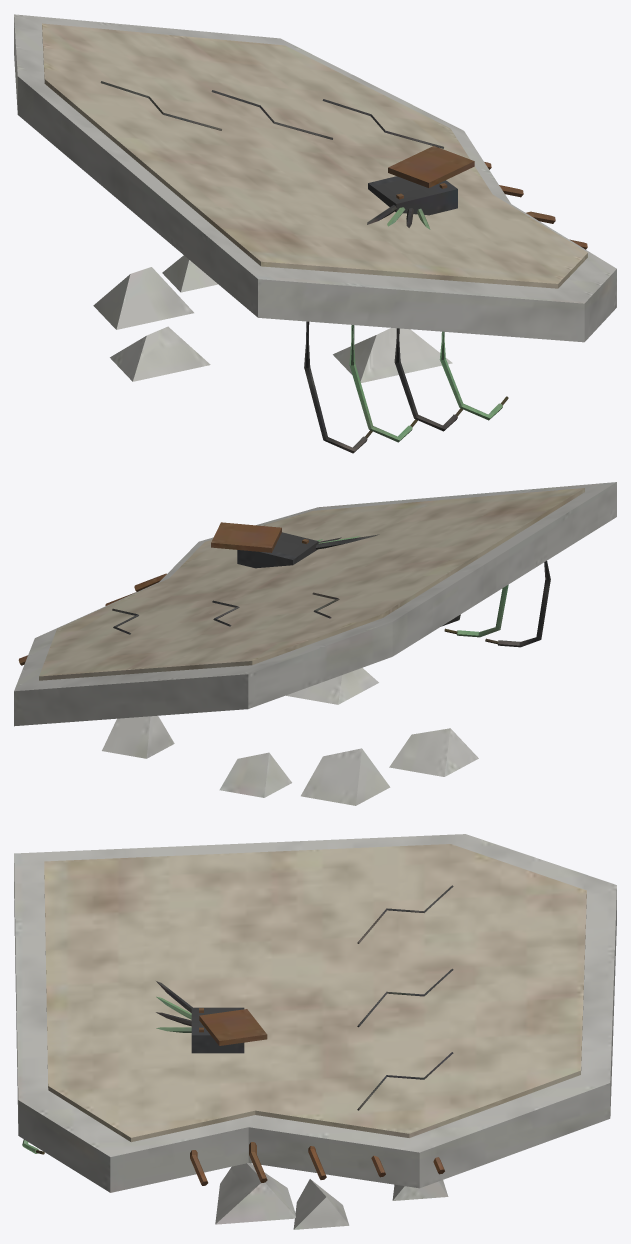
Rendered from BR18_collapsed_ceiling_piece_v2.glb.
The picture shows the model from 3 angles, top to bottom: view 1: azimuth 30°, elevation 25°; view 2: azimuth 150°, elevation 25°; view 3: azimuth 270°, elevation 25°; orthographic projection. The views are drawn at different scales.
Parts seen in each view (by area): view 1: Broken reinforced ceiling slab; view 2: Broken reinforced ceiling slab; view 3: Broken reinforced ceiling slab.
Part boxes in pixels (box(x1,y1,x2,y2)): Broken reinforced ceiling slab: box(14, 14, 616, 453); Broken reinforced ceiling slab: box(14, 482, 616, 805); Broken reinforced ceiling slab: box(14, 834, 616, 1229).
Bounding box in the file's own units: 2.29 × 1.17 × 3.
Materials: 7 (7 with a texture image).
